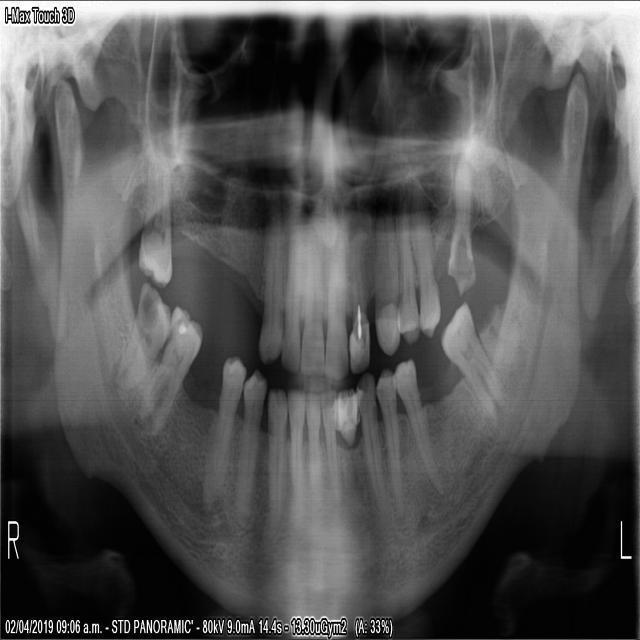LCD: (354, 370, 387, 507)
LCU: (372, 223, 401, 358)
LID: (319, 387, 338, 497), (334, 377, 357, 450)
LIU: (321, 227, 348, 384), (346, 229, 370, 377)
LMD: (437, 296, 509, 433)
LMU: (445, 164, 477, 296)
LPMD: (386, 352, 449, 505), (373, 366, 408, 514)
LPMU: (408, 204, 442, 343), (394, 213, 418, 348)
RCD: (263, 386, 286, 536)
RCU: (255, 224, 285, 369)
RID: (286, 387, 309, 512), (304, 382, 324, 503)
RIU: (298, 227, 324, 383), (280, 217, 304, 377)
RMD: (136, 290, 204, 437), (111, 273, 172, 409)
RMU: (136, 157, 172, 289)
RPMD: (199, 345, 247, 502), (230, 366, 269, 529)
